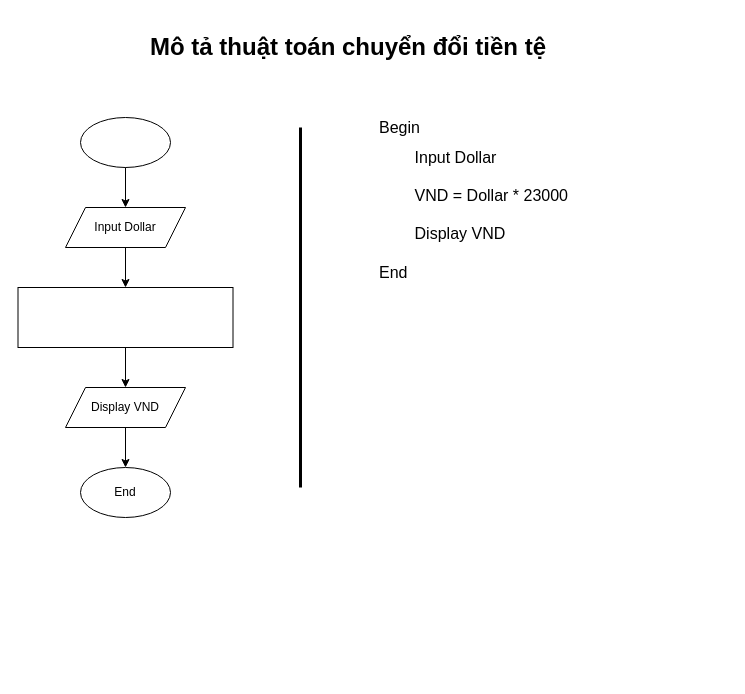
Image size: 745x694. Some labels were removed from this diagram. Each missing label, with the box of its shape:
Begin: (80, 116, 170, 168)
VND = Dollar * 23000: (17, 286, 233, 348)
